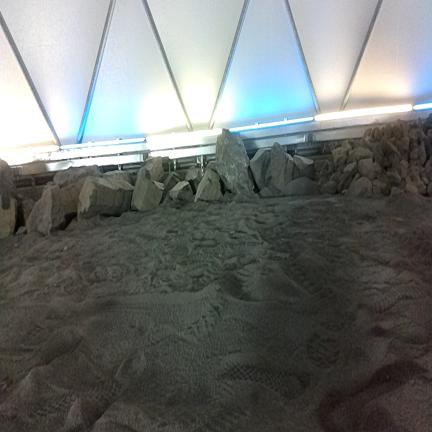Rock: (216, 129, 254, 195), (78, 177, 133, 221), (27, 186, 66, 235), (132, 168, 163, 211), (266, 143, 293, 190), (54, 165, 101, 187), (60, 179, 86, 215), (250, 149, 270, 190), (195, 171, 222, 201), (0, 198, 16, 238), (16, 197, 34, 228), (293, 155, 315, 179), (162, 172, 180, 201), (0, 160, 13, 198), (170, 181, 193, 202), (348, 177, 372, 197), (145, 157, 163, 182), (186, 167, 202, 194), (103, 171, 132, 184), (358, 159, 374, 181), (383, 140, 401, 158), (332, 147, 347, 165), (354, 147, 372, 161), (389, 154, 401, 175), (379, 173, 390, 195), (372, 142, 383, 164), (337, 172, 349, 192), (387, 169, 401, 185), (418, 142, 427, 166), (322, 181, 337, 194), (393, 120, 403, 139), (344, 162, 357, 175), (315, 160, 328, 172), (425, 157, 431, 181), (371, 128, 382, 141), (405, 183, 418, 194), (205, 162, 217, 173), (341, 141, 352, 152), (410, 145, 418, 160), (384, 124, 392, 139), (401, 160, 408, 177), (409, 129, 418, 142), (363, 137, 372, 150), (374, 162, 381, 178), (401, 137, 409, 151), (331, 172, 341, 183), (44, 182, 57, 190), (382, 157, 390, 170), (318, 178, 327, 189), (373, 180, 380, 194), (418, 183, 426, 195), (418, 129, 425, 141), (320, 169, 328, 178), (427, 182, 431, 196), (425, 137, 430, 147), (406, 177, 412, 183), (428, 129, 431, 140)
